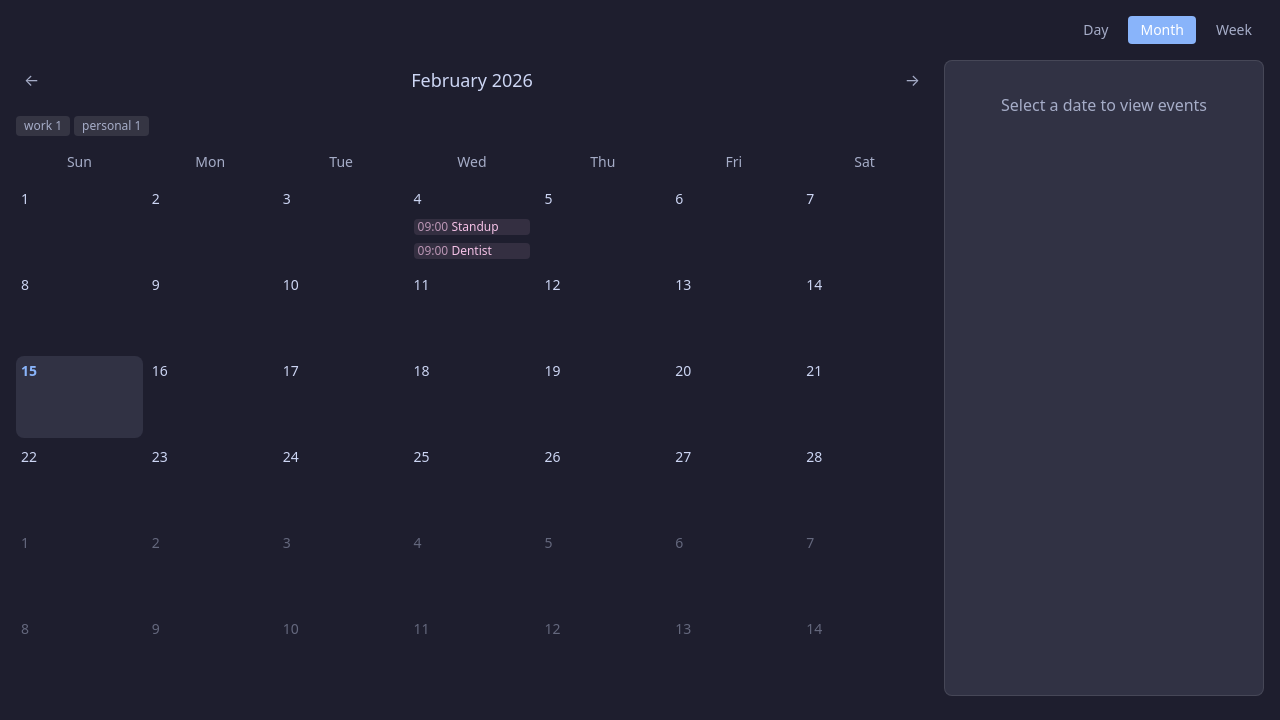
Test: event tags › filters the visible events down to a clicked tag
Expected: the button "09:00 Standup" is shown, [414,219,530,235]
Expected: the button "09:00 Dentist" is shown, [414,243,530,259]
Click the button "work 1". click: [43, 126]
box: [16,116,70,136]
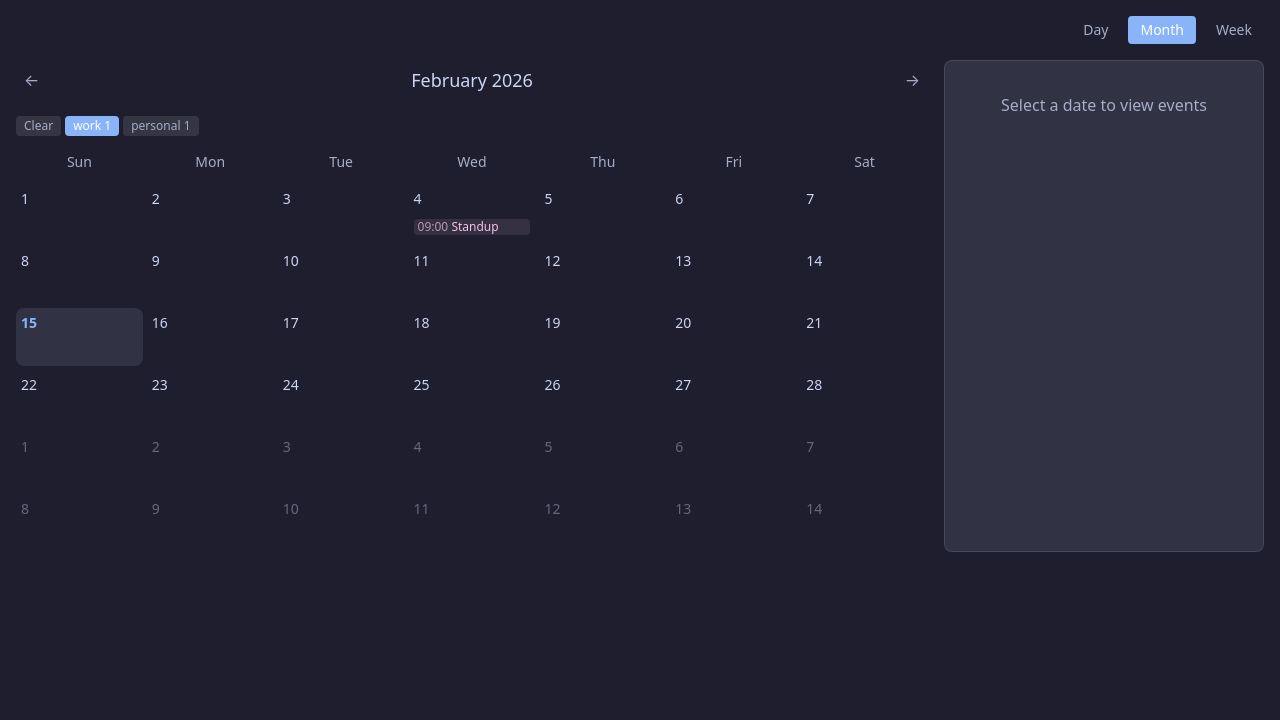
Expected: the button "09:00 Standup" is shown, [414,219,530,235]
Now the button "Dentist" is gone
Note: Clicking the same pill again is the way back out.
Click the button "work 1". click: [92, 126]
box: [65,116,119,136]
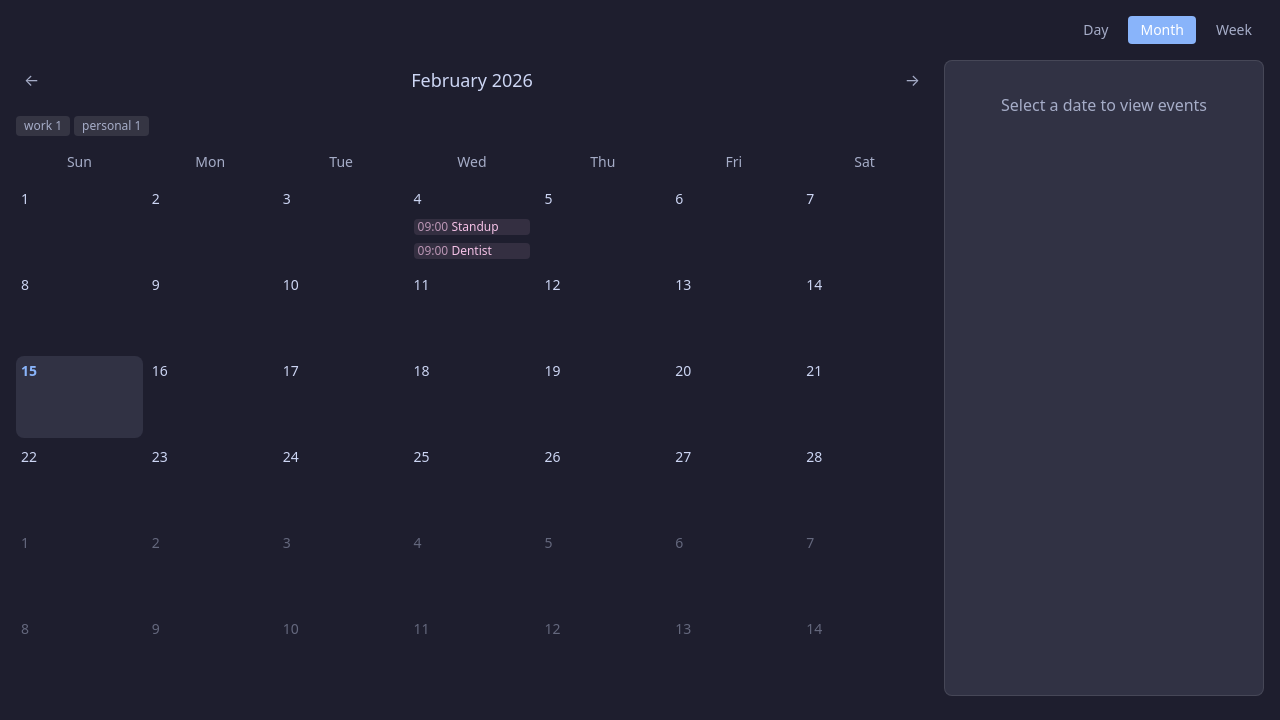
Now the button "09:00 Dentist" is shown, box [414,243,530,259]
